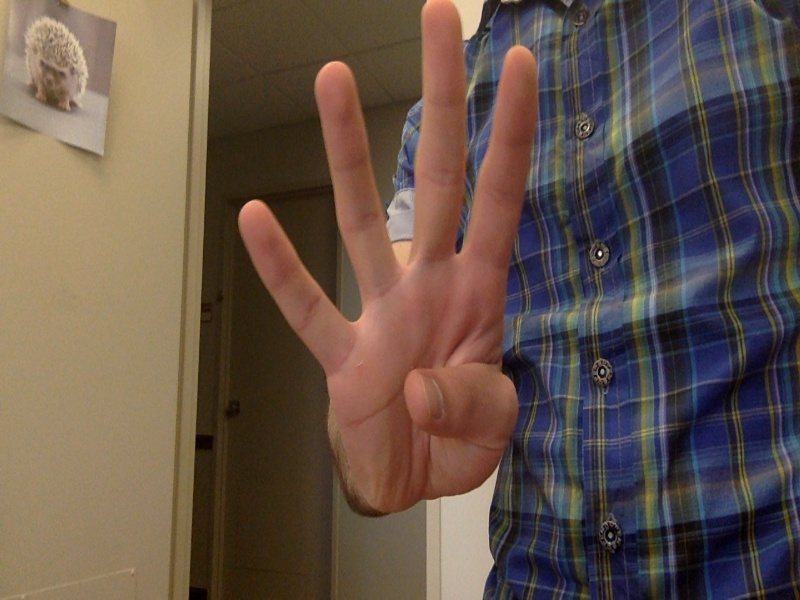4-hand: (237, 2, 541, 520)
